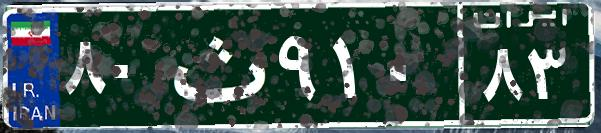0: (385, 28, 445, 110), (110, 28, 158, 105)
1: (330, 28, 385, 110)
3: (525, 38, 570, 115)
8: (57, 26, 110, 107), (475, 38, 525, 113)
9: (273, 28, 330, 110)
ث: (158, 15, 273, 115)
